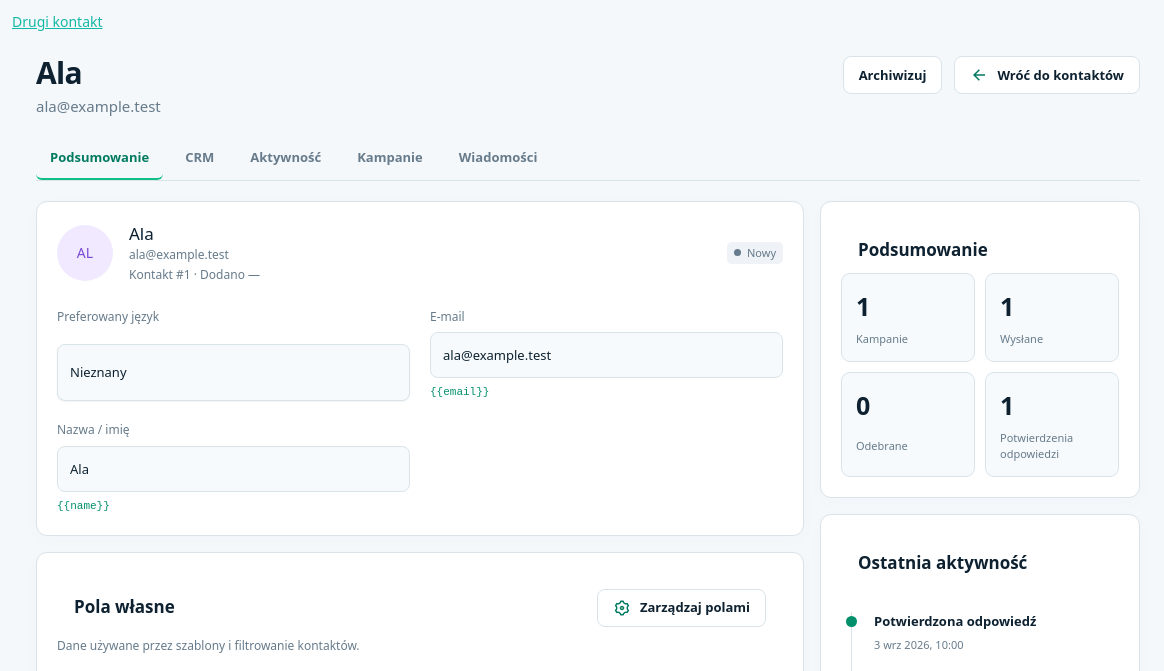
Test case: sorts the timeline newest first, filters enrollments, and separates reply markers from messages
Check: the field labelled "Nazwa / imię" is shown, box [57,446,410,492]
Click the tab "Aktywność" at point(286, 158), box [236,138,335,180]
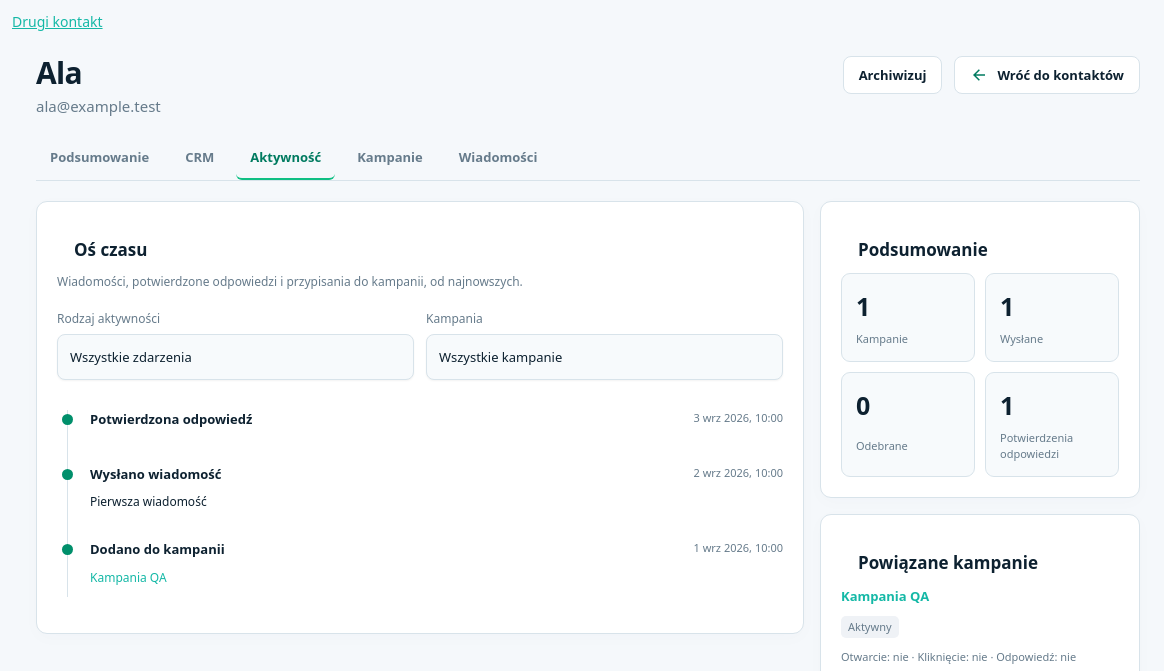
Check: the list item "Potwierdzona odpowiedź 3 wrz 2026, 10:00" is shown, box [67,410,783,465]
Select "Przypisania do kampanii" in the dropdown labelled "Rodzaj aktywności" at point(236, 357), box [57,334,414,380]
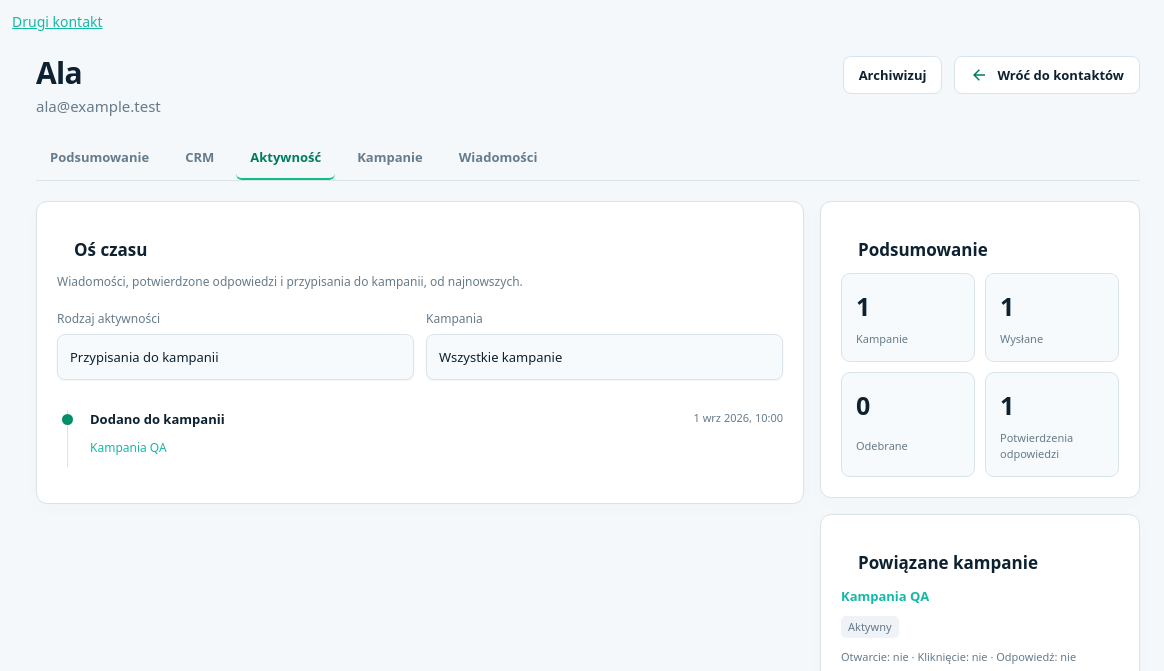
Check: the list "Dodano do kampanii 1 wrz 2026, 10:00 Kampania QA" is shown, box [57,400,783,466]
Click the tab "Wiadomości" at point(498, 158), box [445,138,551,180]
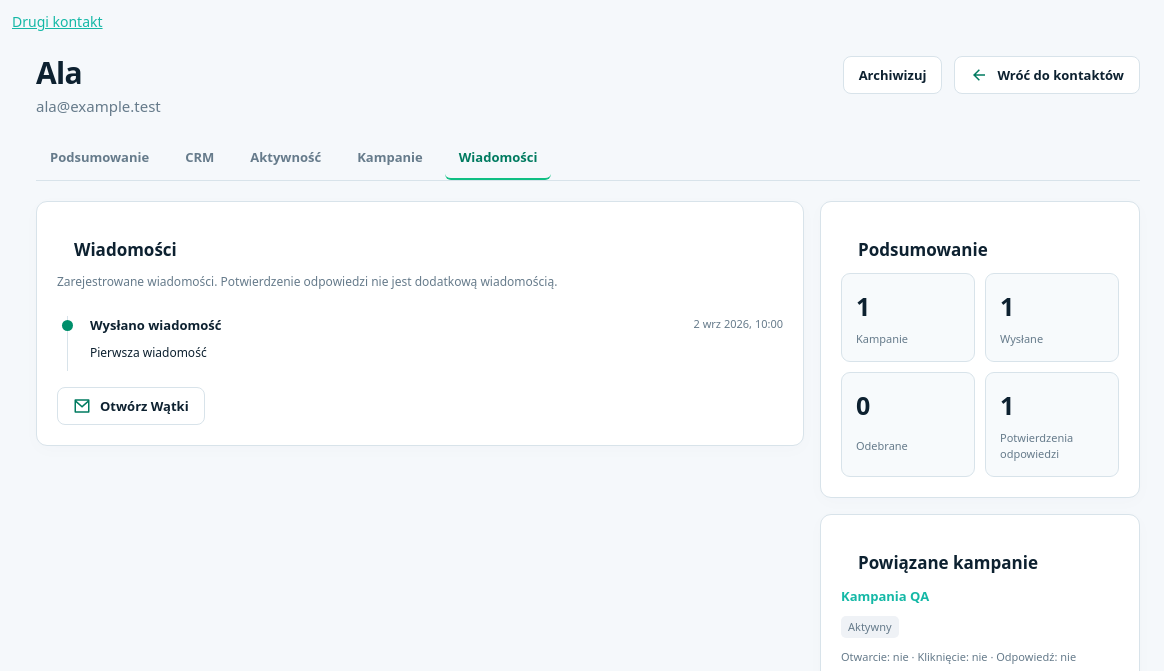
Check: the text "Potwierdzona odpowiedź" is not shown
Check: the text "Pierwsza wiadomość" is shown, box [90,344,207,361]
